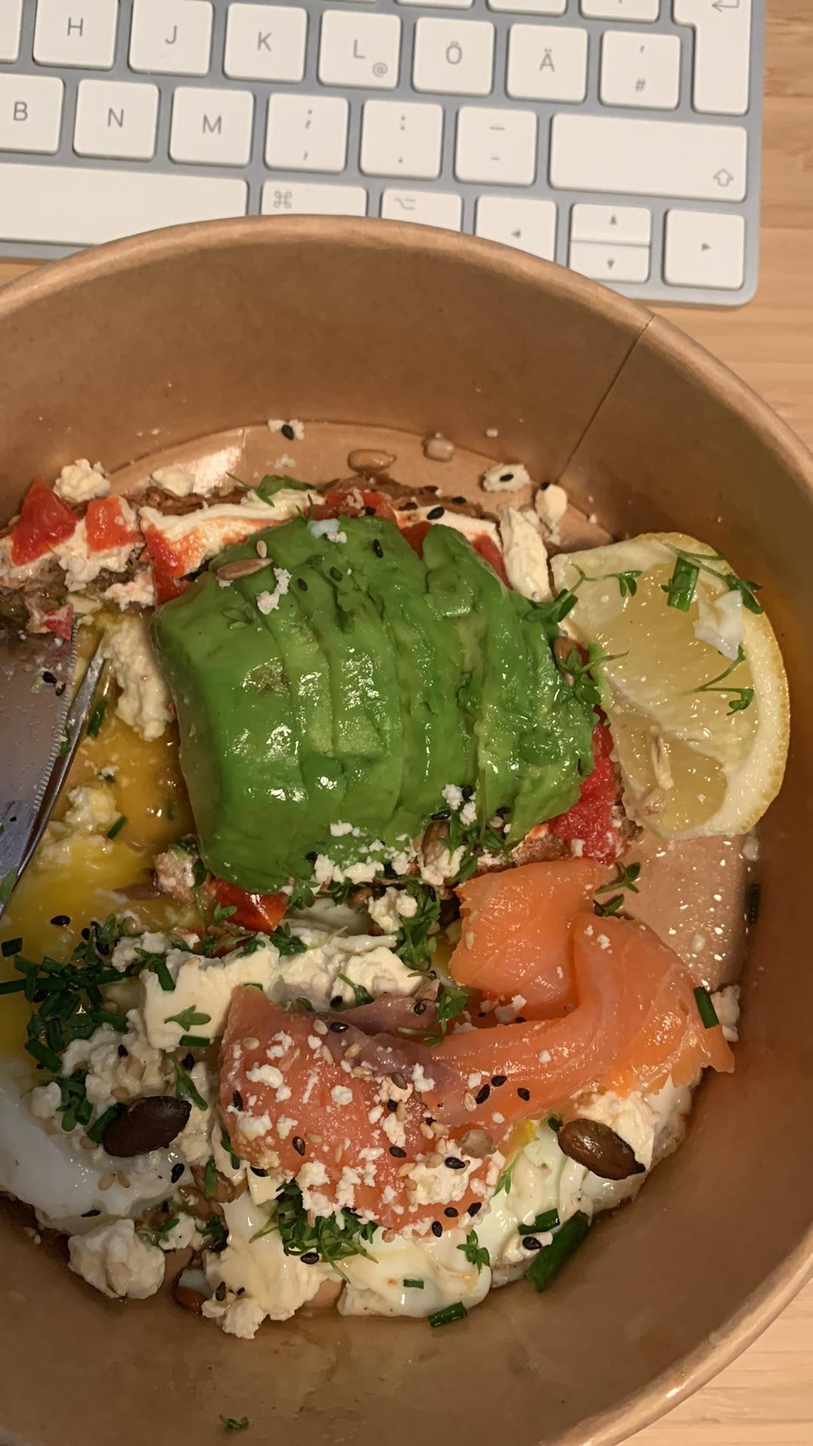avocado: (169, 508, 589, 844)
lemon: (574, 525, 780, 848)
